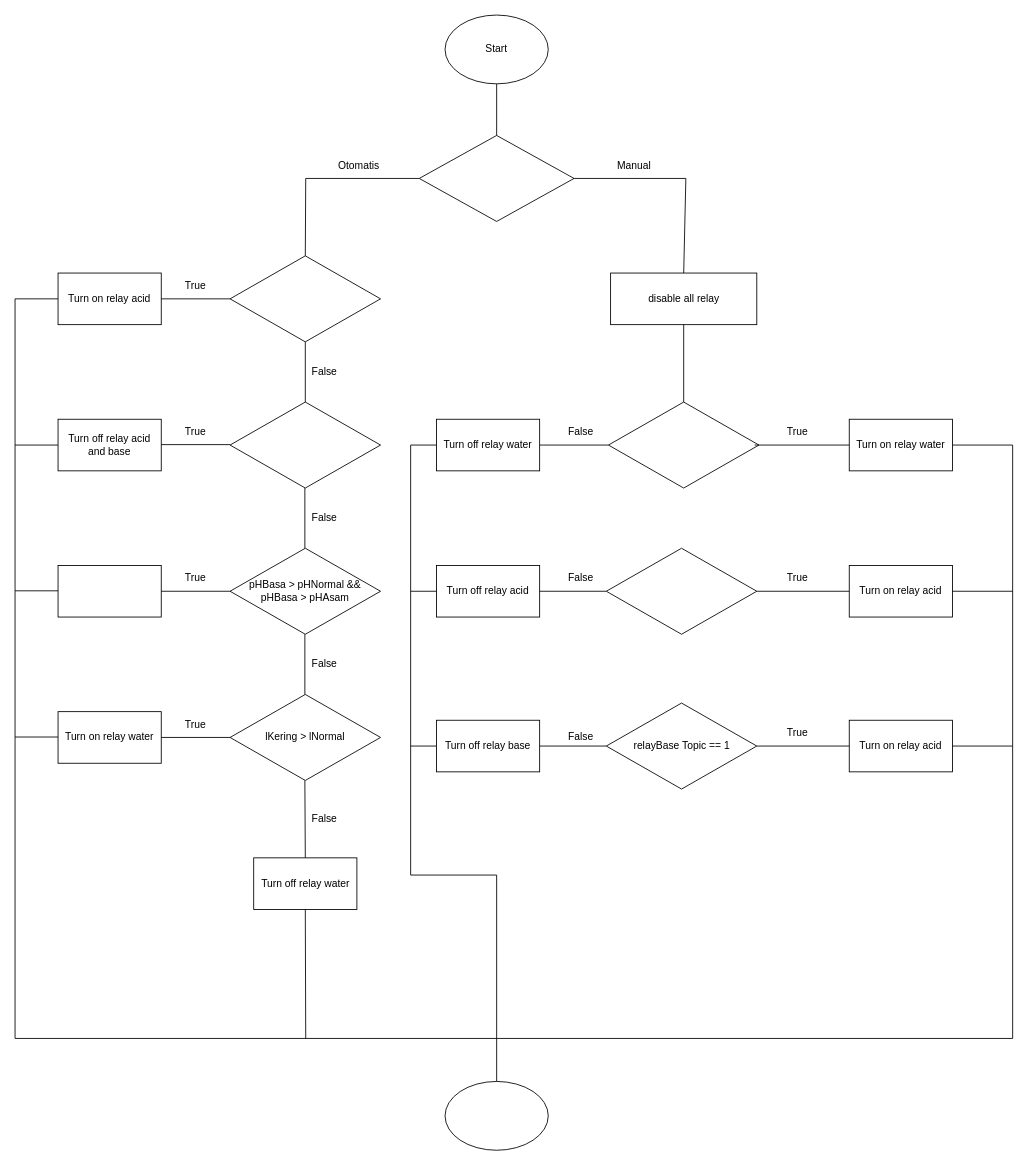
Some shapes in this 1029 by 1165 pixel diagram are drawn without their labels. The centre of each missing label's shape, as x and y in pixels:
"end" belongs at point (496, 1115).
"metode" belongs at point (496, 178).
"pHAsam > pHNormal && pHAsam > pHBasa" belongs at point (305, 298).
"pHNormal > pHAsam && pHNormal > pHBasa" belongs at point (305, 444).
"relayAcid Topic == 1" belongs at point (681, 590).
"relayWater Topic == 1" belongs at point (683, 444).
"Turn on relay Base" belongs at point (109, 591).
